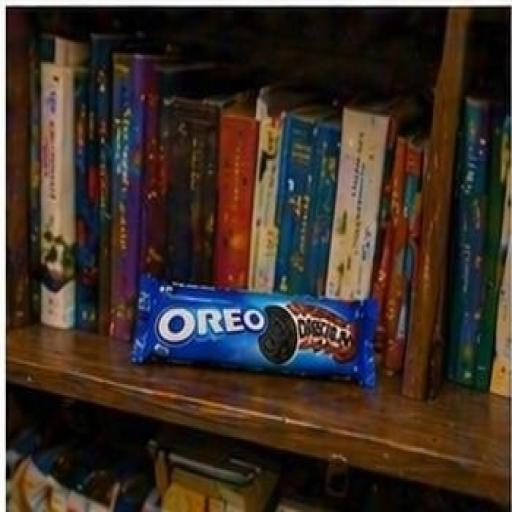oreo: (97, 230, 417, 450)
